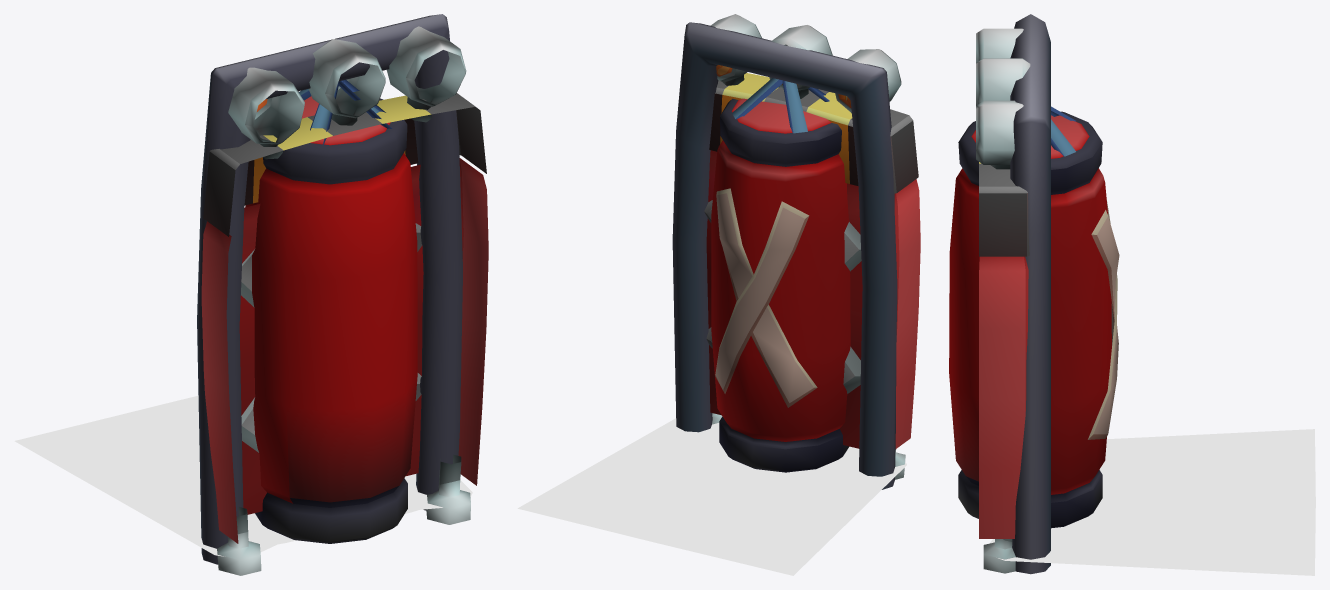
File: city_staticDouble1_roadworks02.fbx
3 renders of one model, left to right at view 1: azimuth 30°, elevation 25°; view 2: azimuth 150°, elevation 25°; view 3: azimuth 270°, elevation 25°, orthographic. The views are drawn at different scales.
Visible parts, largest first — view 1: city_staticDouble1_roadworks_SummerSports, city_staticDouble1_roadworks02, roadworksDoubleShadow; view 2: city_staticDouble1_roadworks_SummerSports, roadworksDoubleShadow, city_staticDouble1_roadworks02; view 3: city_staticDouble1_roadworks_SummerSports, roadworksDoubleShadow, city_staticDouble1_roadworks02.
Boxes of the visible parts, bbox=[...] form: city_staticDouble1_roadworks_SummerSports: bbox=[197, 14, 462, 564]; city_staticDouble1_roadworks02: bbox=[201, 26, 488, 575]; roadworksDoubleShadow: bbox=[14, 395, 472, 556]; city_staticDouble1_roadworks_SummerSports: bbox=[672, 22, 897, 489]; roadworksDoubleShadow: bbox=[517, 418, 906, 575]; city_staticDouble1_roadworks02: bbox=[704, 14, 920, 479]; city_staticDouble1_roadworks_SummerSports: bbox=[949, 14, 1119, 574]; roadworksDoubleShadow: bbox=[989, 429, 1315, 575]; city_staticDouble1_roadworks02: bbox=[976, 28, 1030, 573].
Size of the model in its own units: 136 by 197 by 143.
